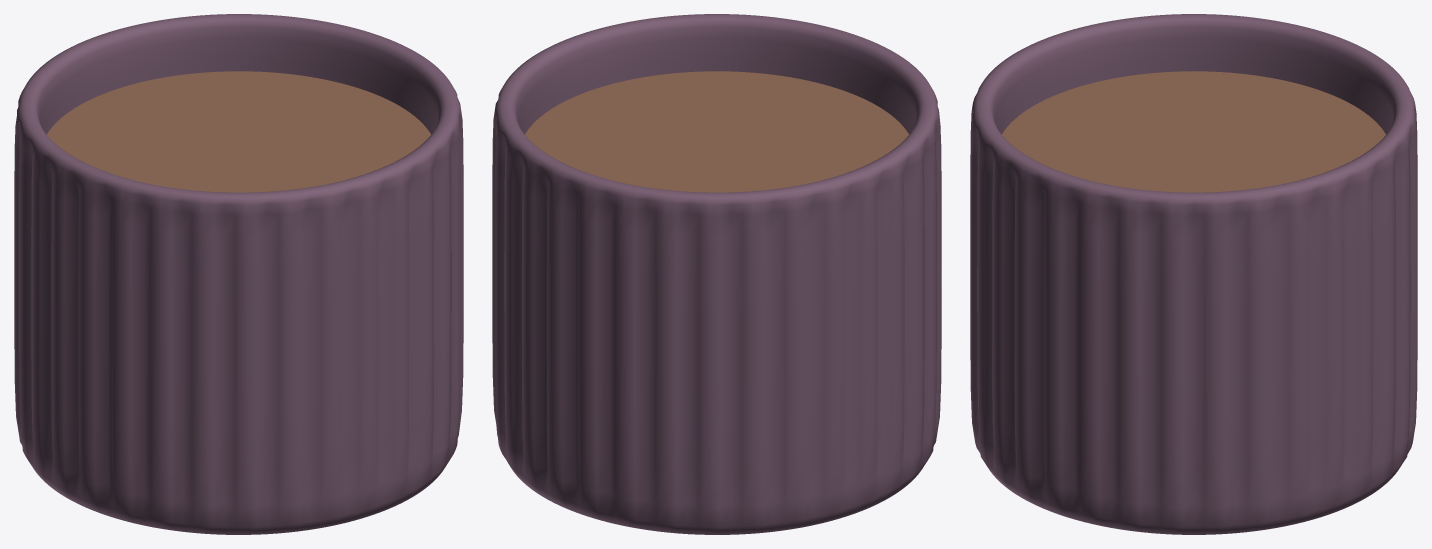
File: fluted_purple.glb
The picture shows the model from 3 angles, left to right: view 1: azimuth 30°, elevation 25°; view 2: azimuth 150°, elevation 25°; view 3: azimuth 270°, elevation 25°; orthographic projection.
Visible parts, largest first — view 1: Circle.011, Circle.010; view 2: Circle.011, Circle.010; view 3: Circle.011, Circle.010.
Part boxes in pixels (x1,y1,x2,y2): Circle.011: [14, 14, 463, 534]; Circle.010: [47, 71, 430, 192]; Circle.011: [492, 14, 941, 534]; Circle.010: [525, 71, 908, 192]; Circle.011: [970, 14, 1417, 534]; Circle.010: [1002, 71, 1385, 192].
Bounding box in the file's own units: 11.66 × 9.97 × 11.66.
